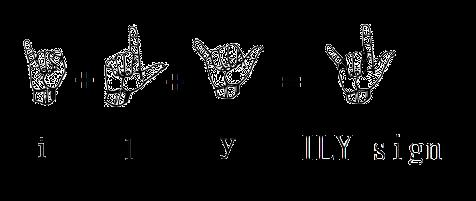Love_you: (323, 22, 400, 115)
